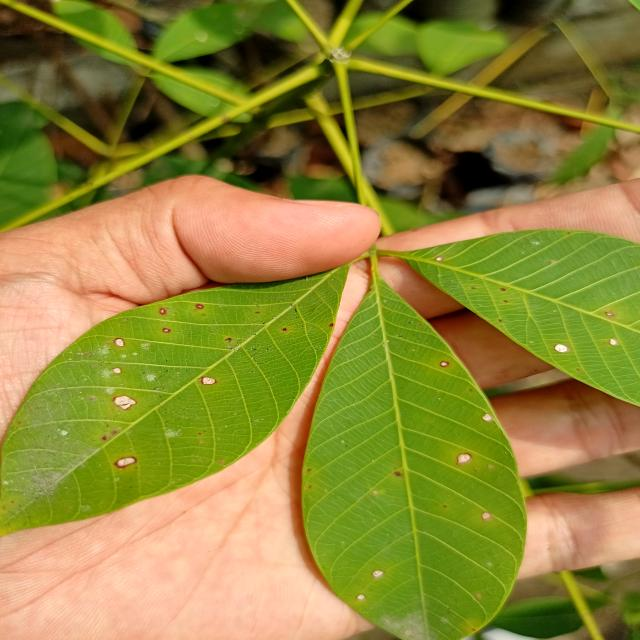Colletotrichum: (112, 395, 137, 410), (114, 456, 138, 469), (456, 453, 472, 465), (201, 376, 217, 385), (554, 343, 567, 352), (480, 511, 491, 520), (372, 569, 384, 577), (115, 338, 125, 347), (355, 594, 367, 600), (113, 367, 123, 374), (162, 327, 172, 333), (159, 308, 167, 315), (440, 361, 449, 367), (196, 304, 204, 309), (435, 257, 442, 262), (606, 312, 612, 317), (500, 288, 505, 291)
